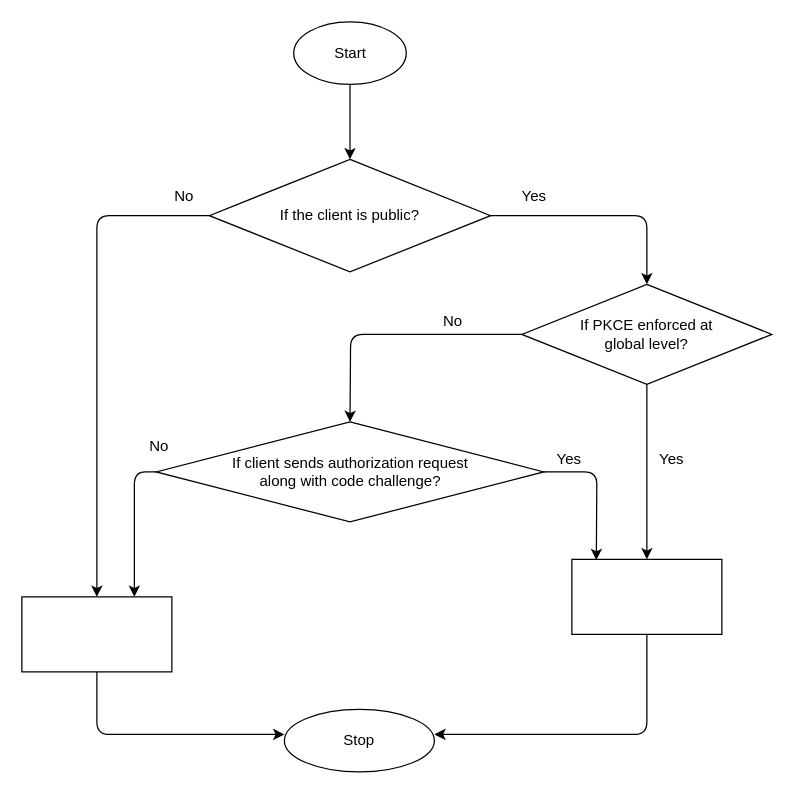
This 794x794 diagram has some shape labels left out. The centre of each missing label's shape, as x and y in pixels:
Do not enforce PKCE: the point at 96,634
Enforce PKCE: the point at 646,596
